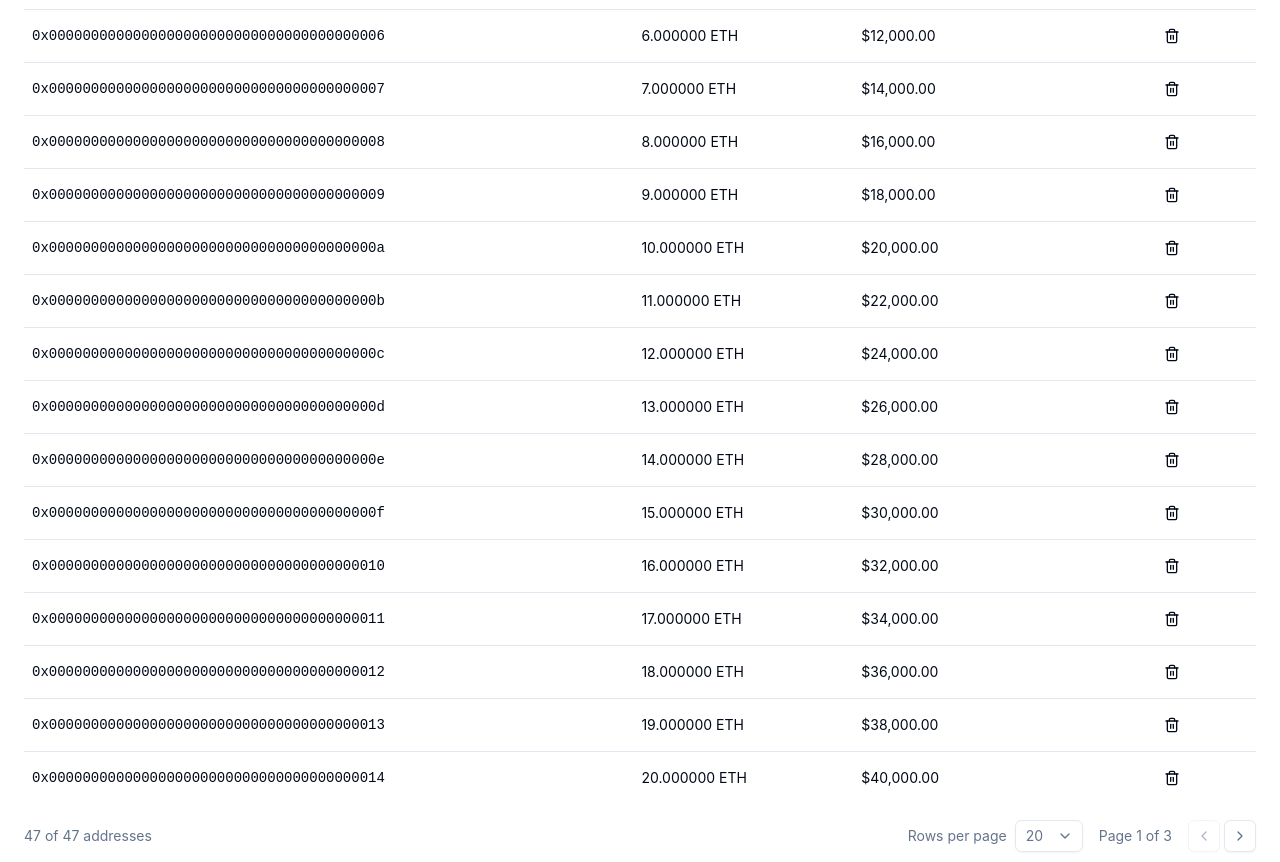
Test case: AddressTable › filters by ETH range, leaving out rows without a balance, and returns to page 1
(page scrolled)
Click the button named "Next page".
click(1240, 836)  # box [1224, 820, 1256, 852]
(page scrolled)
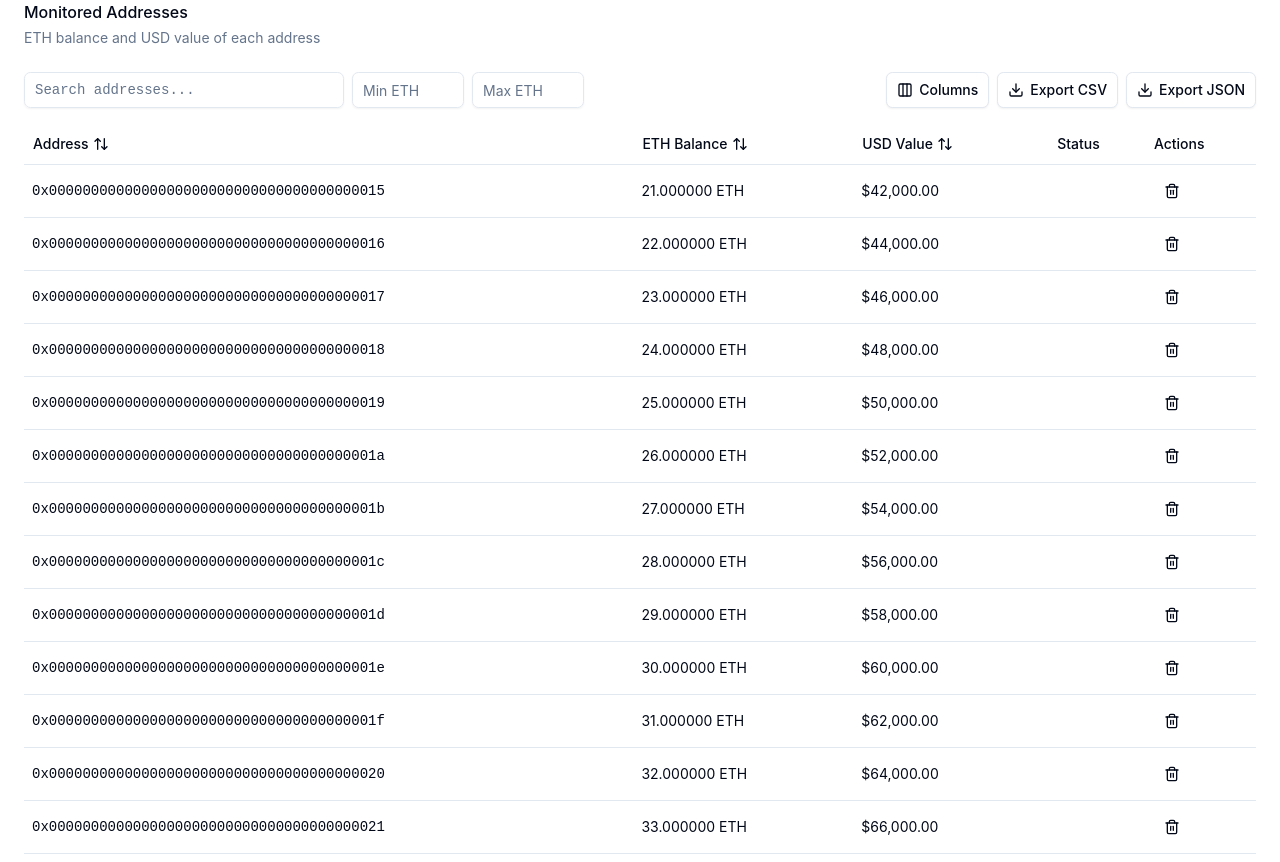
Type "10" into the number field named "Minimum ETH balance".
click(408, 90); type("10")  # box [352, 72, 464, 108]
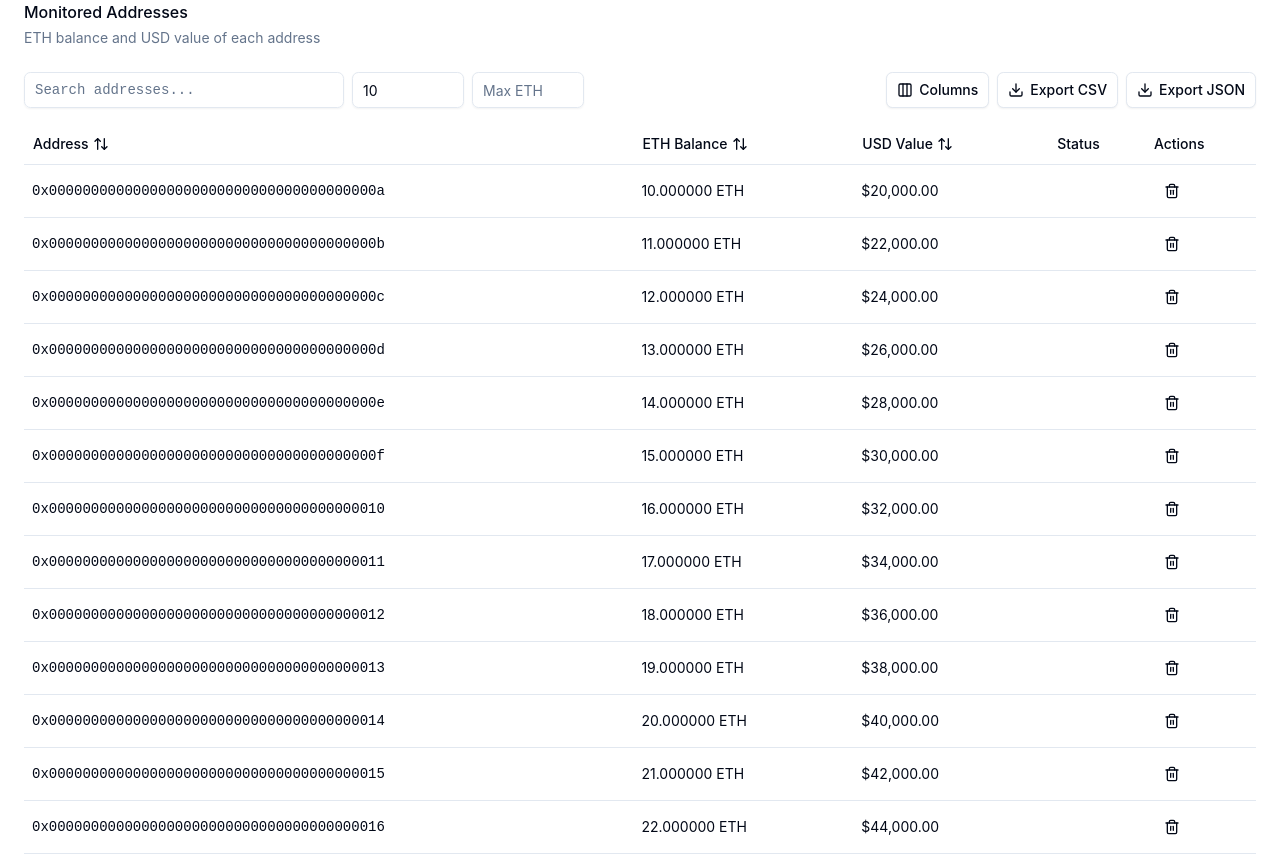
Type "20" into the number field named "Maximum ETH balance".
click(528, 90); type("20")  # box [472, 72, 584, 108]
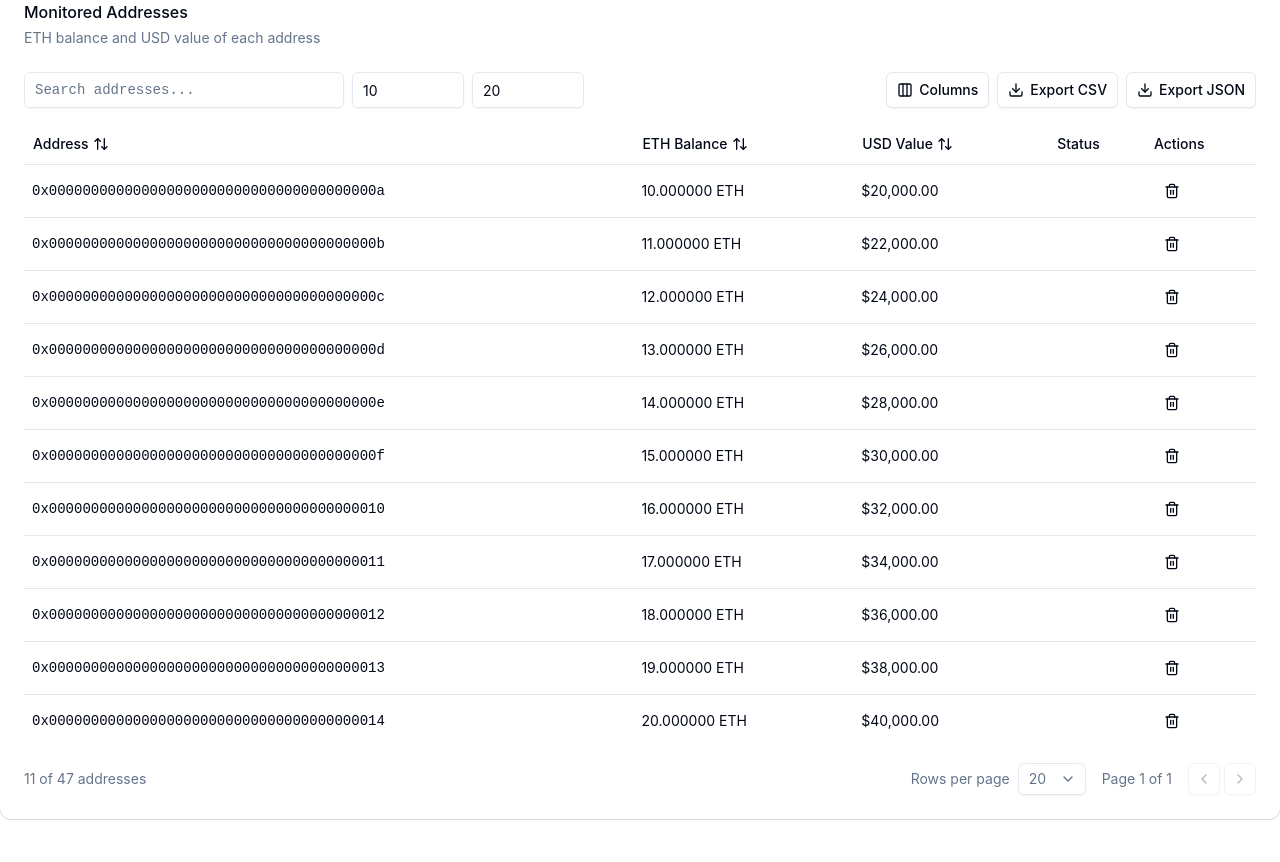
Expected: the text "11 of 47 addresses" is shown, [24, 768, 146, 788]
Expected: the text "Page 1 of 1" is shown, [1102, 768, 1172, 788]
